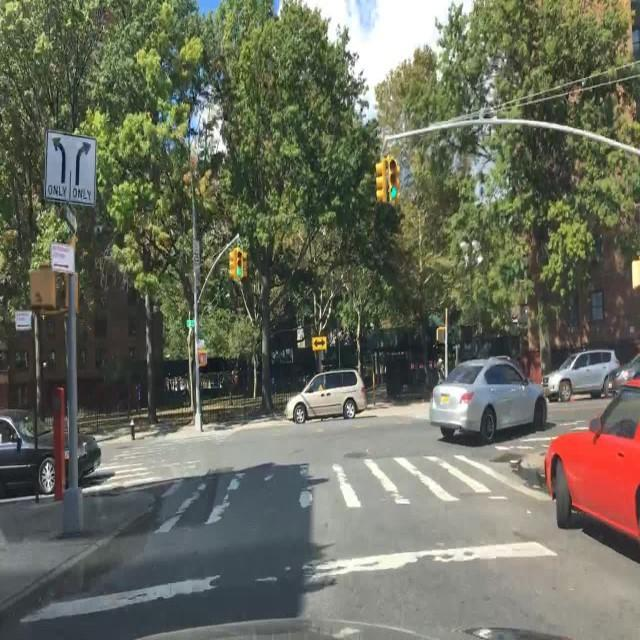normal: (431, 333, 546, 456), (0, 404, 130, 511), (270, 339, 369, 434)
